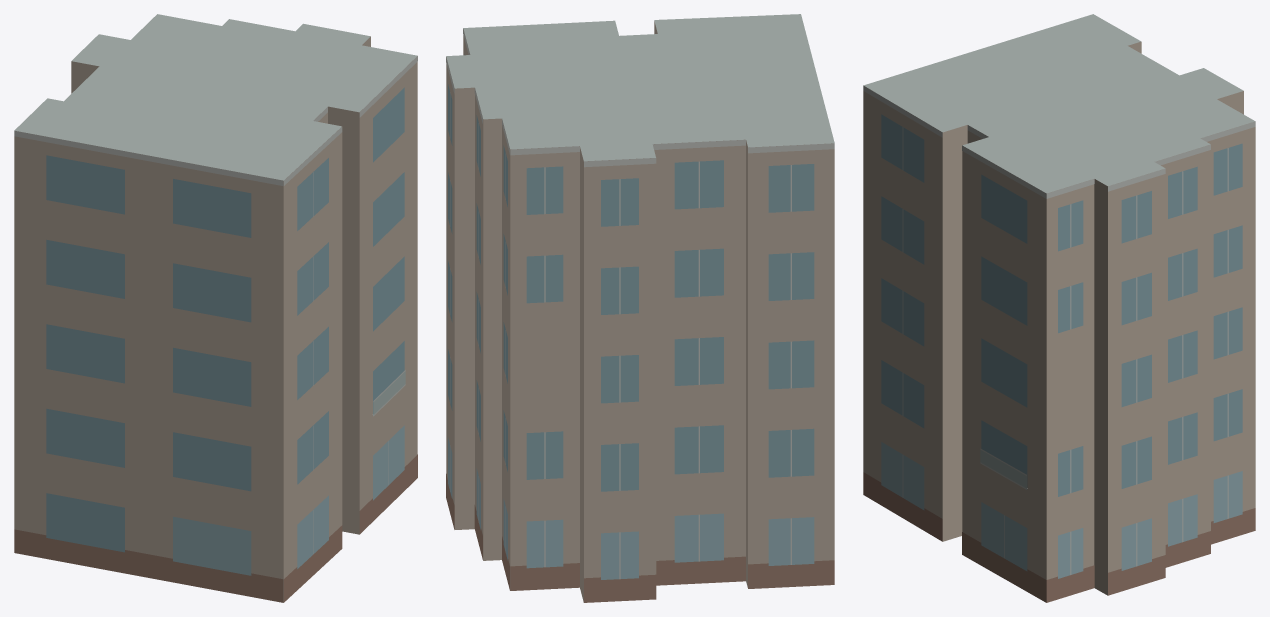
File: survey-upis-32848842.glb
3 views of the same model, side by side, from view 1: azimuth 30°, elevation 25°; view 2: azimuth 150°, elevation 25°; view 3: azimuth 270°, elevation 25° (orthographic). The views are drawn at different scales.
Visible parts, largest first — view 1: survey-upis-32848842.tmp; view 2: survey-upis-32848842.tmp; view 3: survey-upis-32848842.tmp.
Boxes of the visible parts, x1,y1,x2,y2 form: survey-upis-32848842.tmp: (14, 14, 417, 602); survey-upis-32848842.tmp: (446, 14, 834, 602); survey-upis-32848842.tmp: (863, 14, 1255, 602).
Size of the model in its own units: 17.12 by 18.2 by 15.81.
